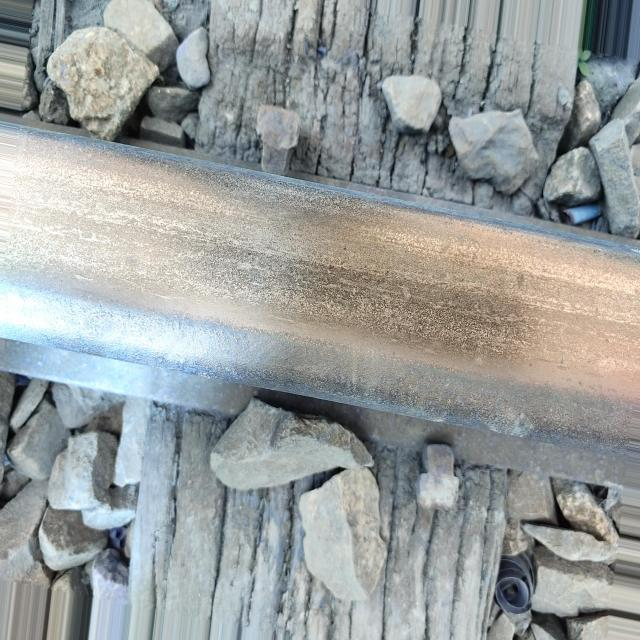Good Fasteners: (257, 105, 300, 175), (417, 444, 459, 509)
